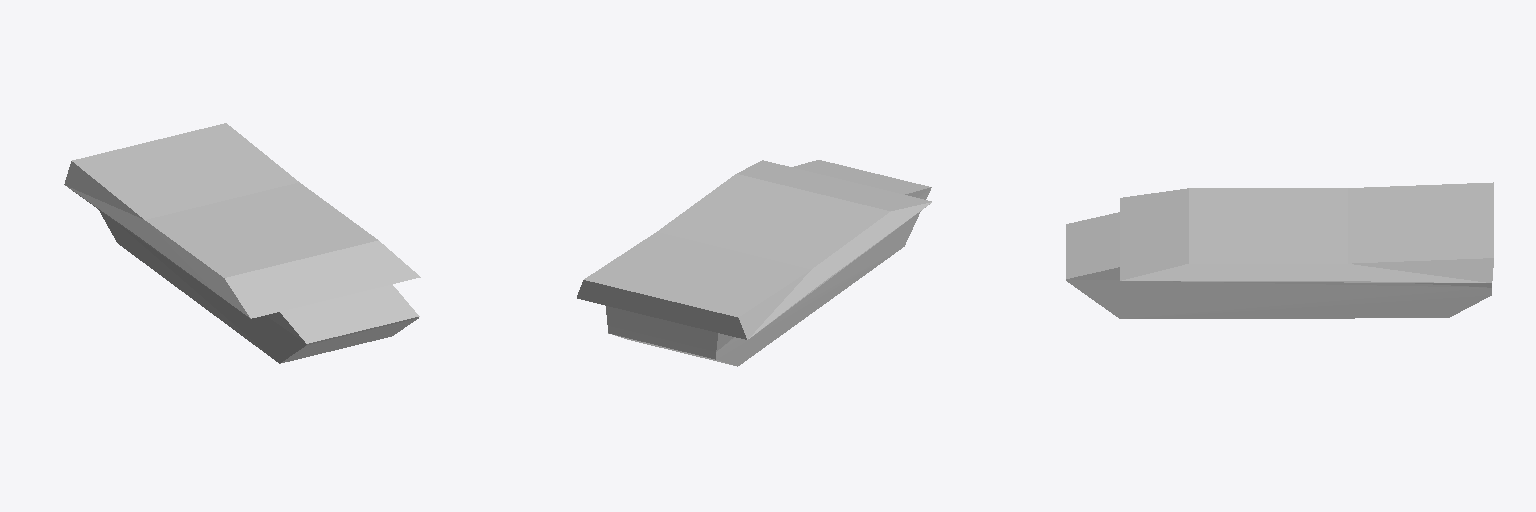
Rendered from body_collider.obj.
The picture shows the model from 3 angles: view 1: azimuth 30°, elevation 25°; view 2: azimuth 150°, elevation 25°; view 3: azimuth 270°, elevation 25°; orthographic projection.
Visible parts, largest first — view 1: Cube; view 2: Cube; view 3: Cube.
Boxes of the visible parts, <box> form: Cube: <box>64,123,420,363</box>; Cube: <box>577,160,931,366</box>; Cube: <box>1066,182,1493,318</box>.
Bounding box in the file's own units: 2.35 × 0.9364 × 5.09.